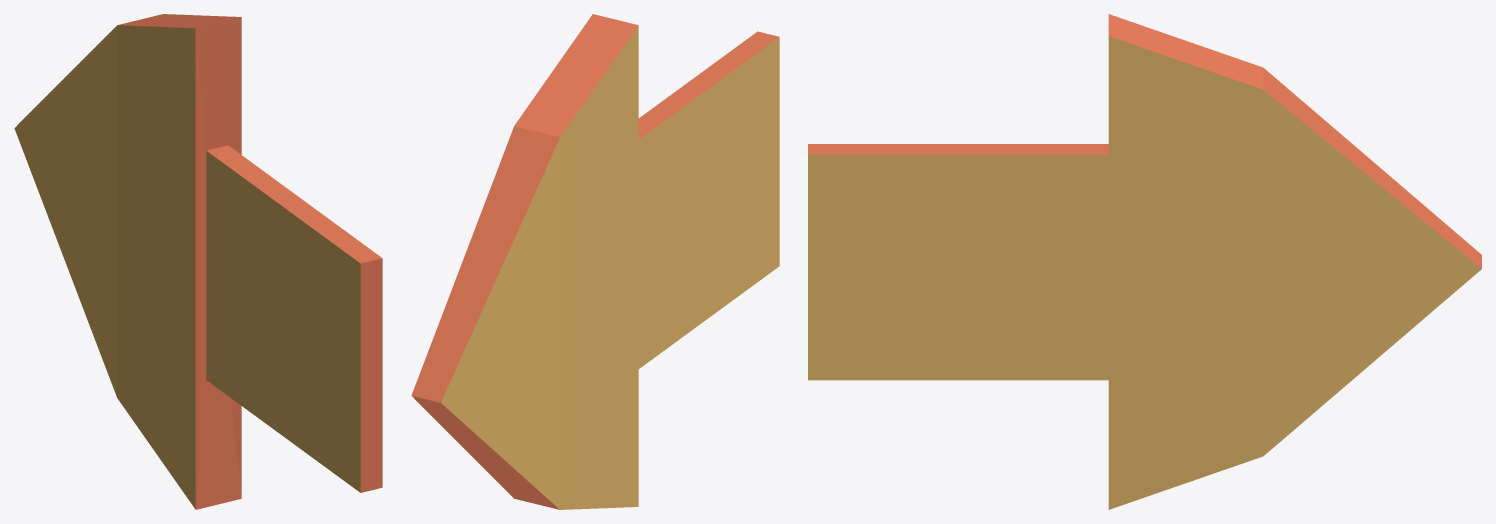
File: LeftAndRigth.fbx
3 views of the same model, side by side, from view 1: azimuth 30°, elevation 25°; view 2: azimuth 150°, elevation 25°; view 3: azimuth 270°, elevation 25° (orthographic).
Parts seen in each view (by area): view 1: Куб; view 2: Куб; view 3: Куб.
Part boxes in pixels (box(x1,y1,x2,y2)): Куб: box(14, 14, 382, 509); Куб: box(411, 14, 779, 509); Куб: box(808, 14, 1481, 509).
Size of the model in its own units: 64.44 by 50 by 5.
